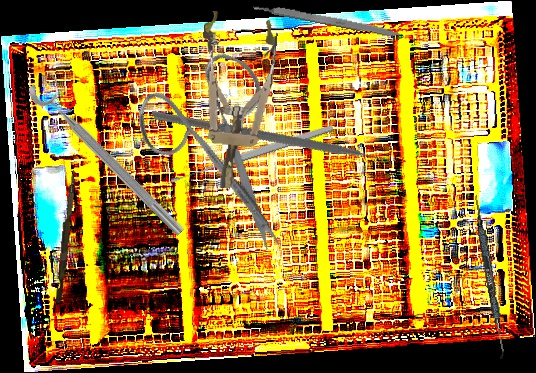Chopper: (151, 38, 398, 253)
Fixation Ring: (24, 67, 198, 242)
Iris Scissors: (109, 31, 343, 255)
Pusher: (55, 169, 76, 304)
Scalpel Handle: (250, 0, 407, 40)
Spatula Surgical: (468, 195, 511, 359)
Speculum: (187, 10, 280, 192)
Surgical Spoon: (169, 122, 335, 186)
